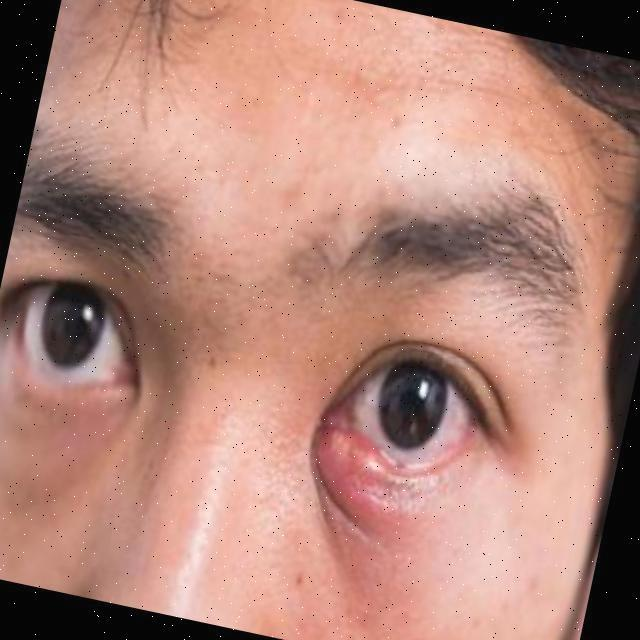Stye: (276, 378, 459, 543)
